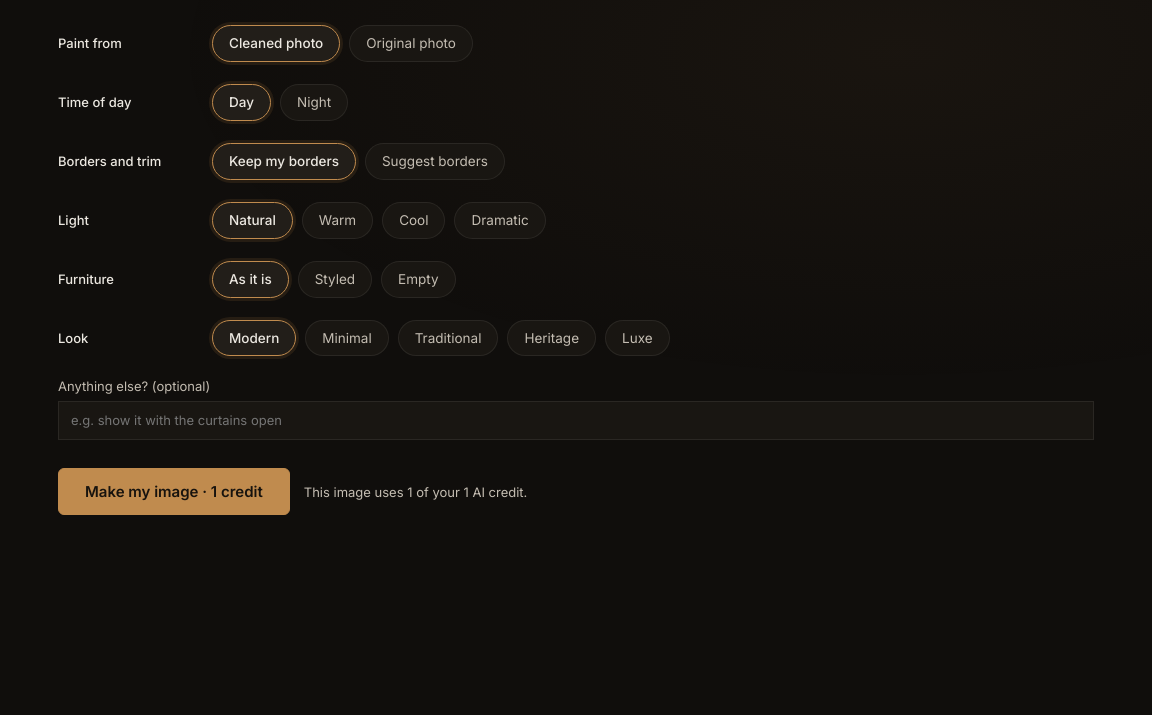
Scenario: RenderStudio › surfaces a 402 rather than swallowing it
This screenshot has width=1152, height=715.
(page scrolled)
Click the button "Make my image · 1 credit".
click(174, 492)  # box [58,468,290,515]
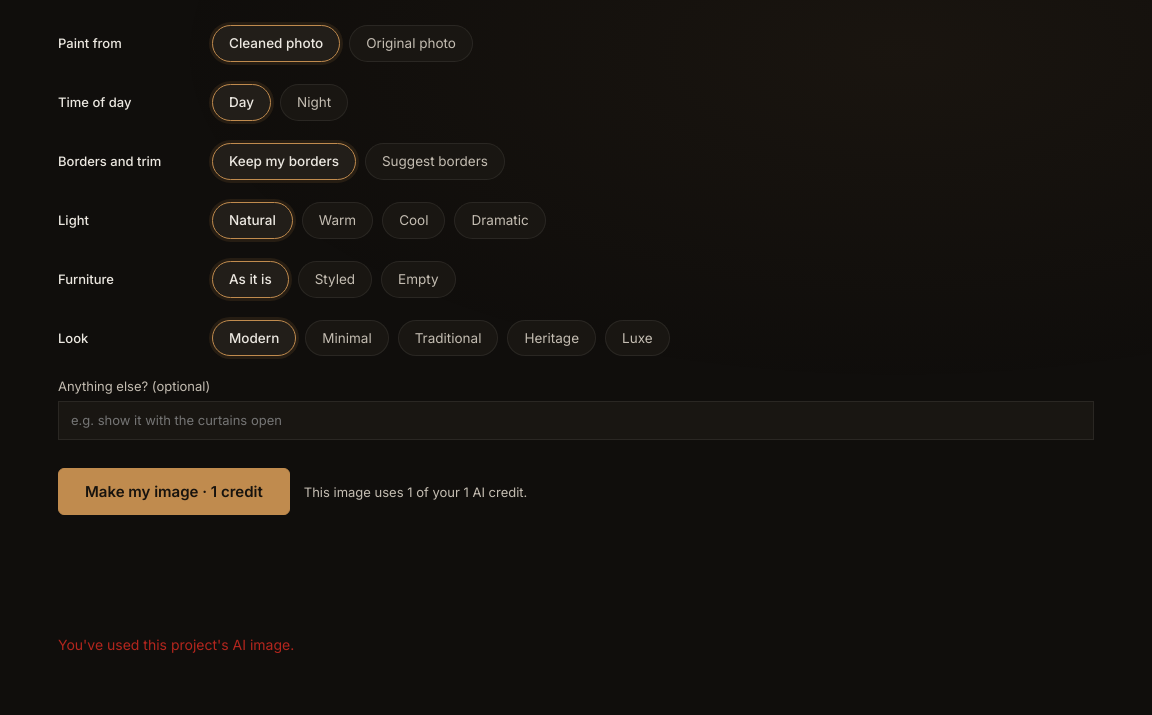
Result: the message shows "used this project's AI image" at [58,636,294,653]
